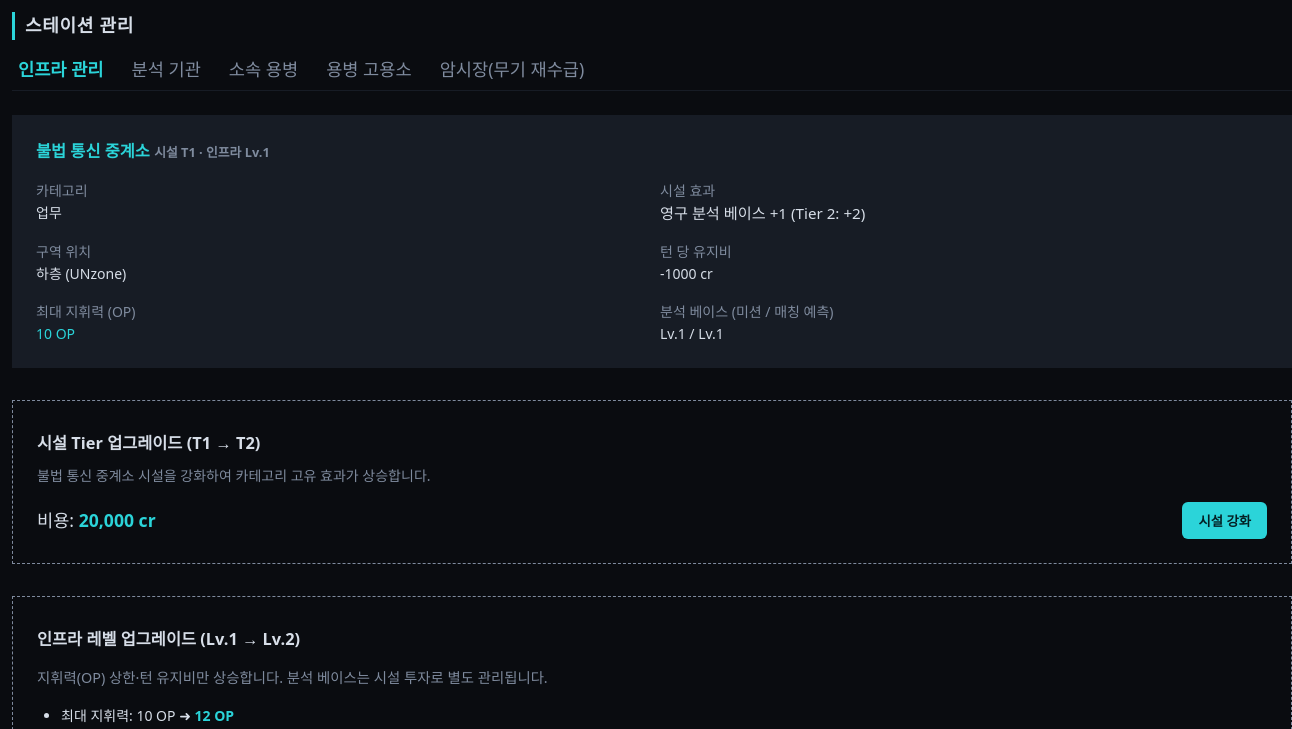
Test: StationView 컴포넌트 단위 테스트 › case 6: 암시장 탭에서 파손된 용병이 없으면 안내 문구가 노출된다
This screenshot has width=1292, height=729.
Click the button "암시장(무기 재수급)".
click(512, 68)  # box [434,55,590,82]
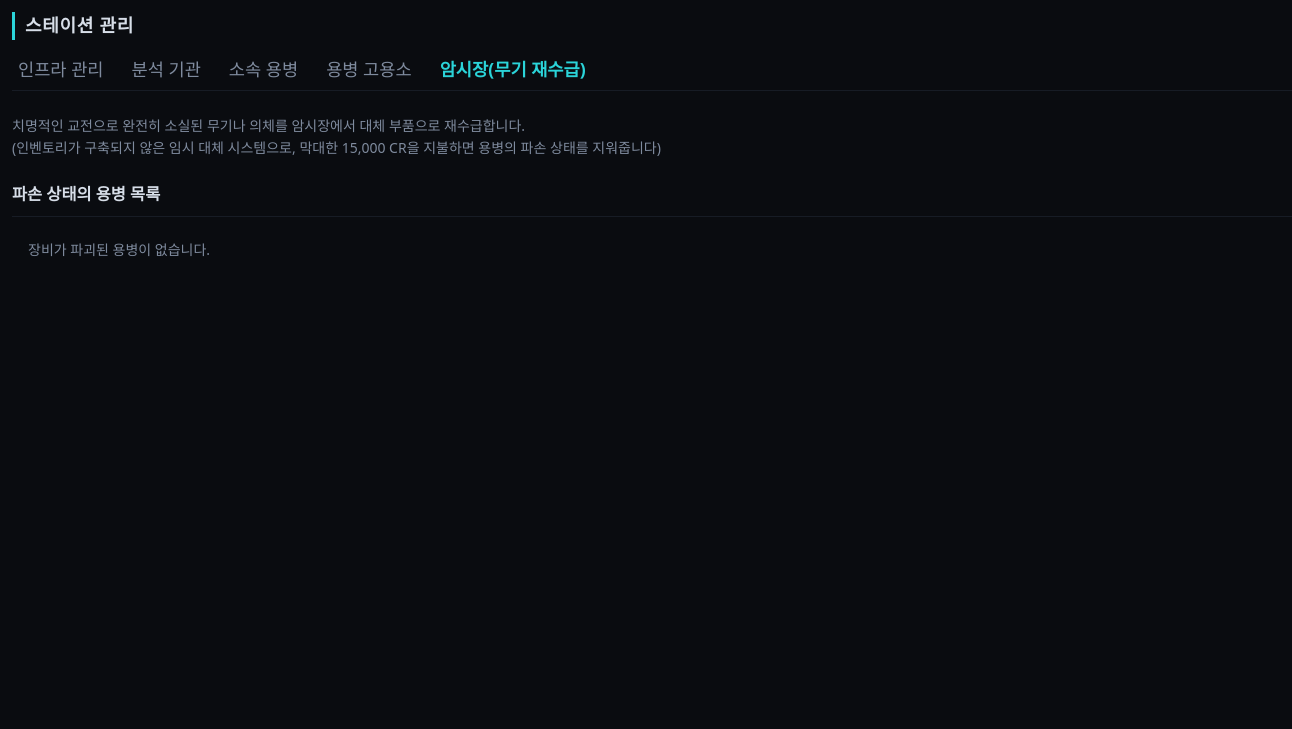
expect the text "장비가 파괴된 용병이 없습니다." is shown: met, box [28,240,210,259]
